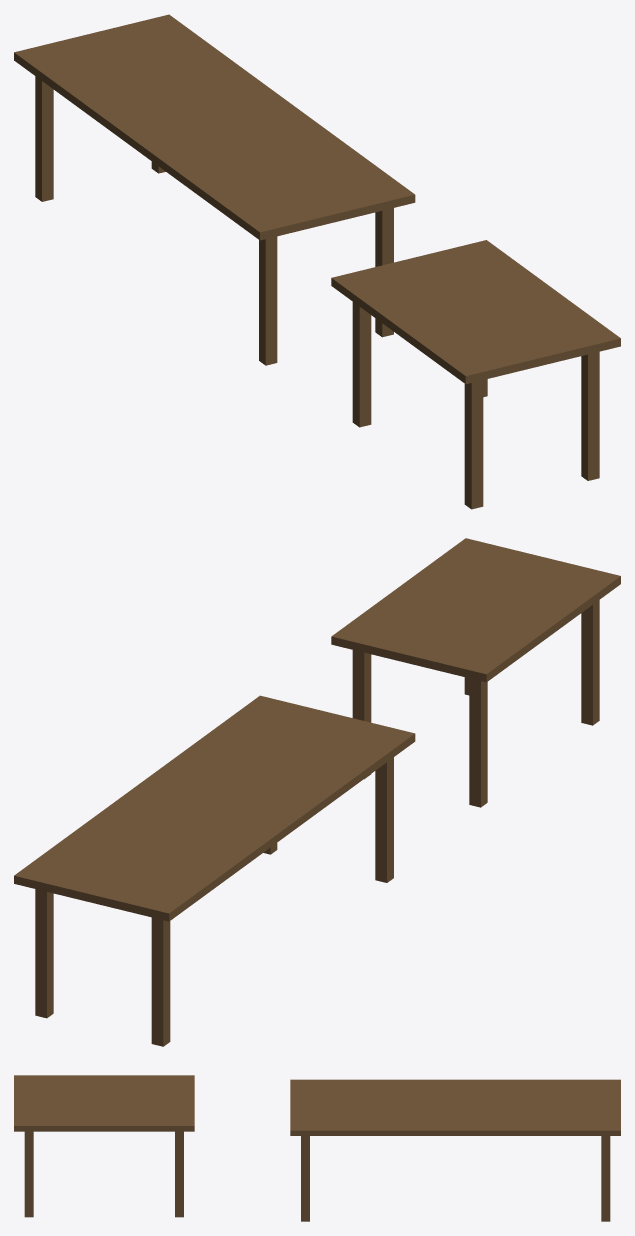
The model's file is table.fbx.
3 views of the same model, one above another, from view 1: azimuth 30°, elevation 25°; view 2: azimuth 150°, elevation 25°; view 3: azimuth 270°, elevation 25° (orthographic). The views are drawn at different scales.
Visible parts, largest first — view 1: table, table.001; view 2: table, table.001; view 3: table, table.001.
Boxes of the visible parts, <box> form: table: <box>14,14,415,365</box>; table.001: <box>331,240,620,509</box>; table: <box>14,695,415,1046</box>; table.001: <box>331,538,620,807</box>; table: <box>290,1079,620,1221</box>; table.001: <box>14,1075,194,1217</box>.
Bounding box in the file's own units: 764 × 702 × 3854.
